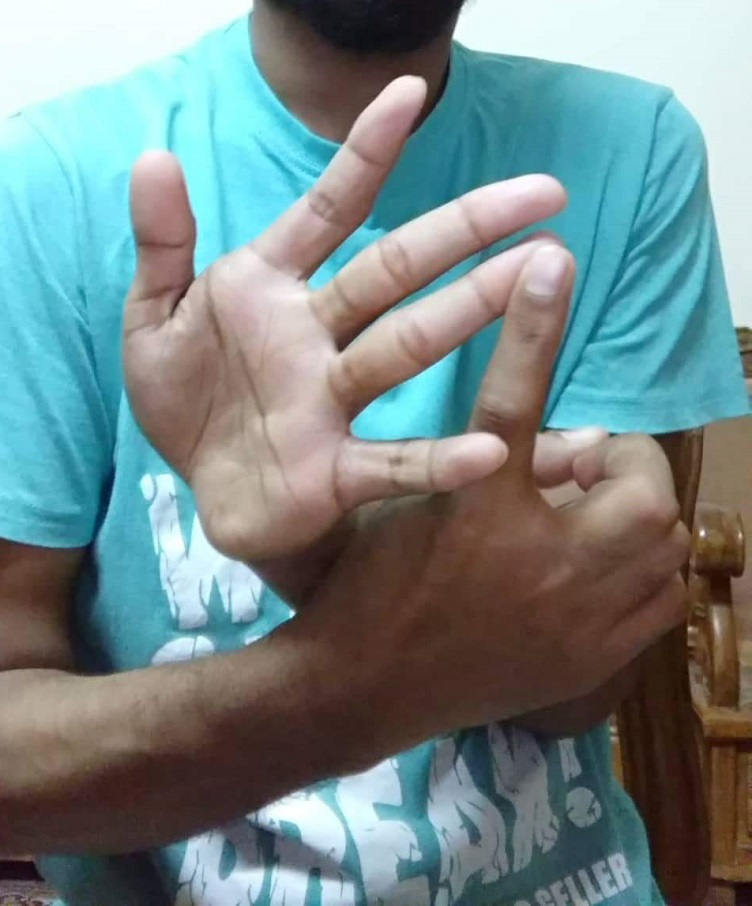e: (130, 76, 690, 695)
